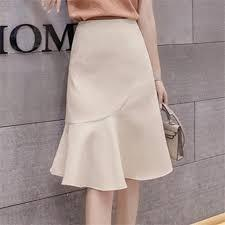skirt: (50, 19, 172, 189)
